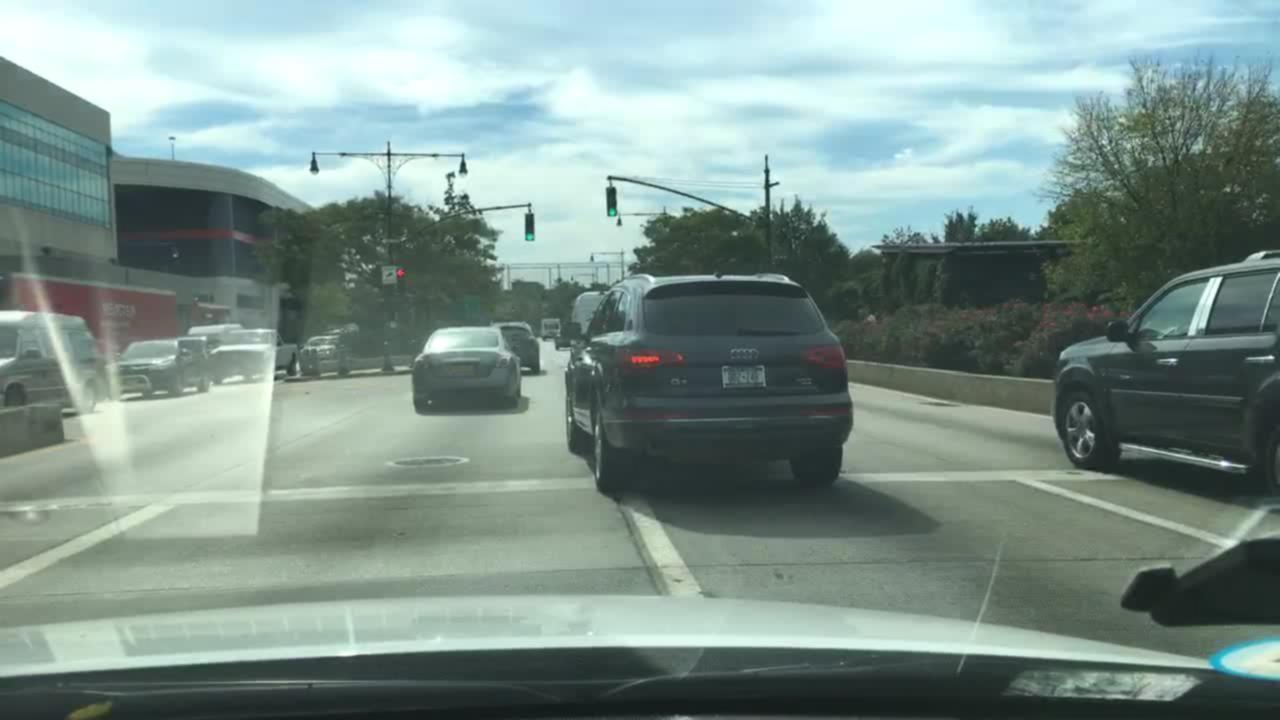Audi: (727, 341, 761, 361)
